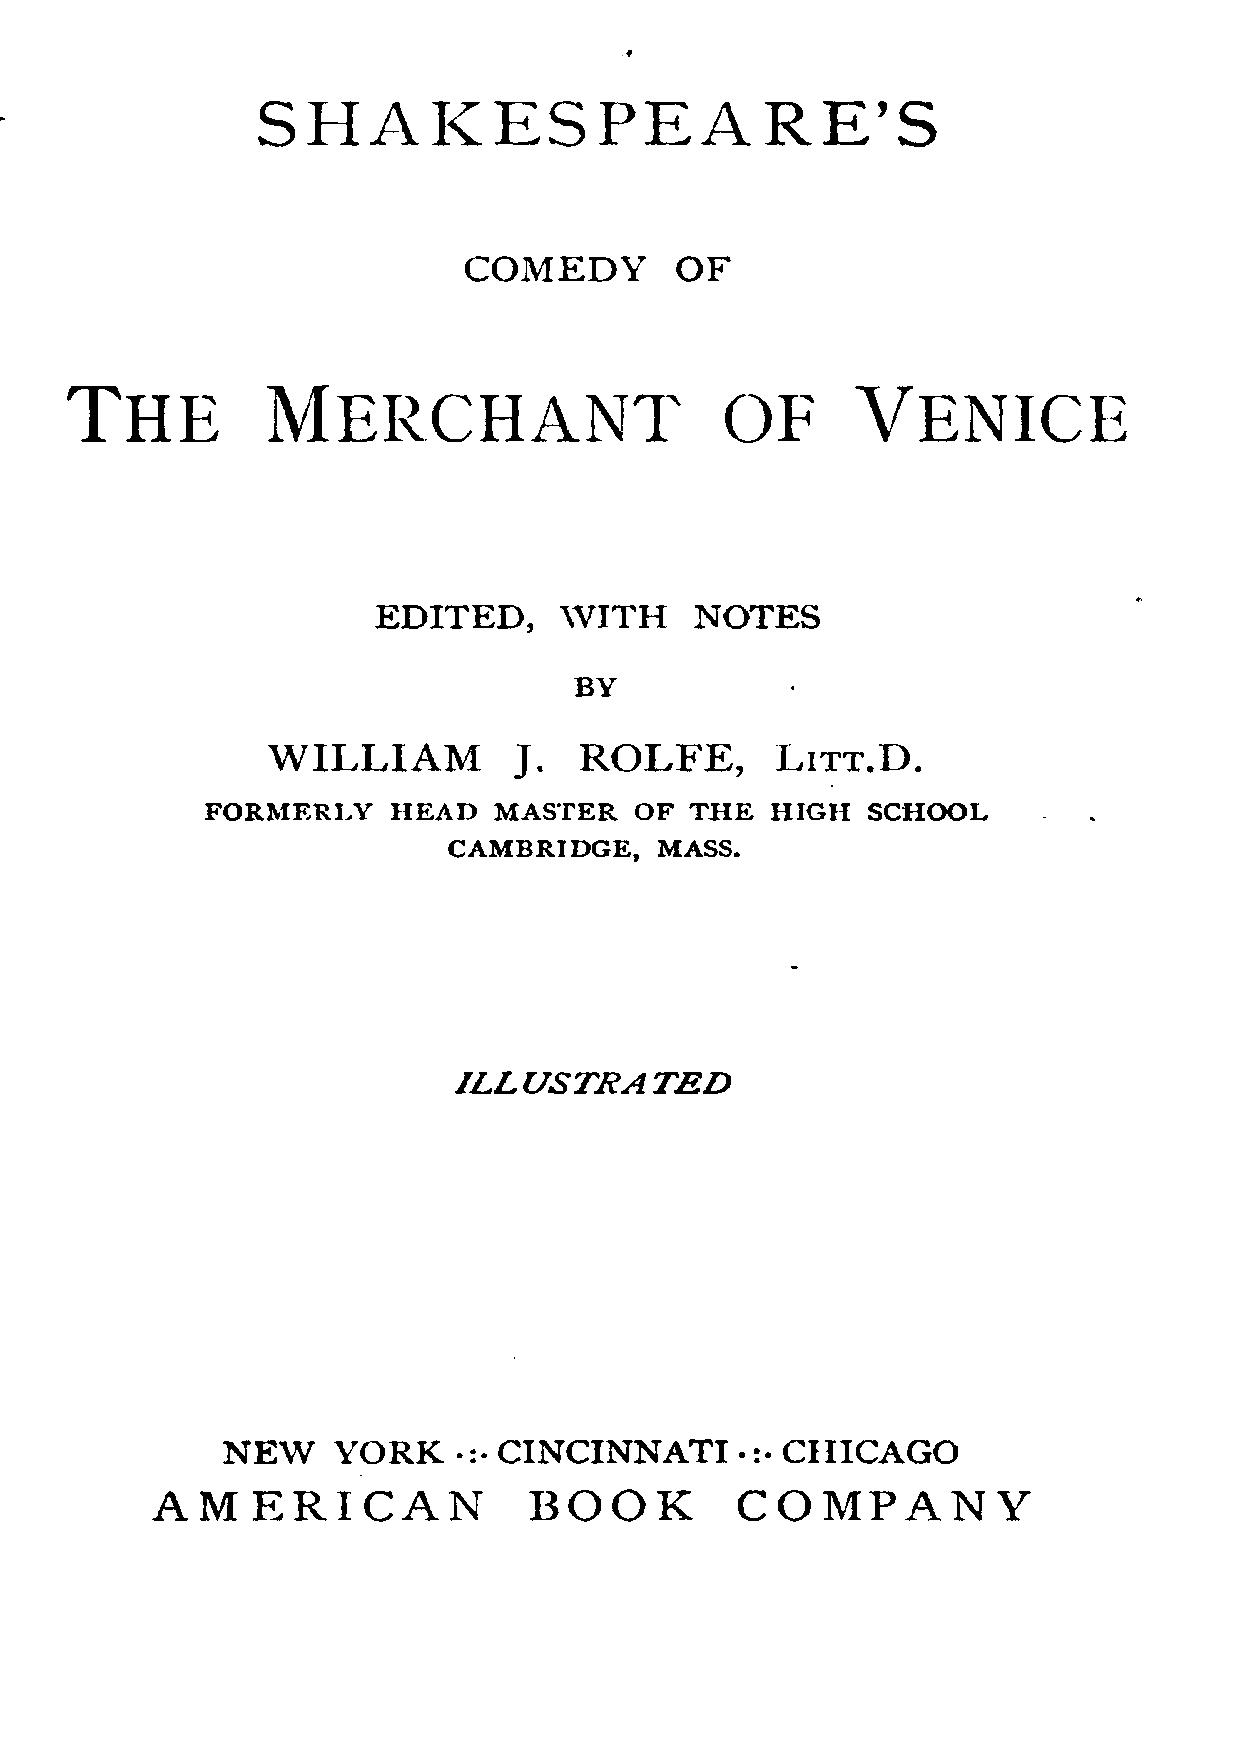author: (264, 674, 923, 780)
title: (62, 97, 1129, 446)
